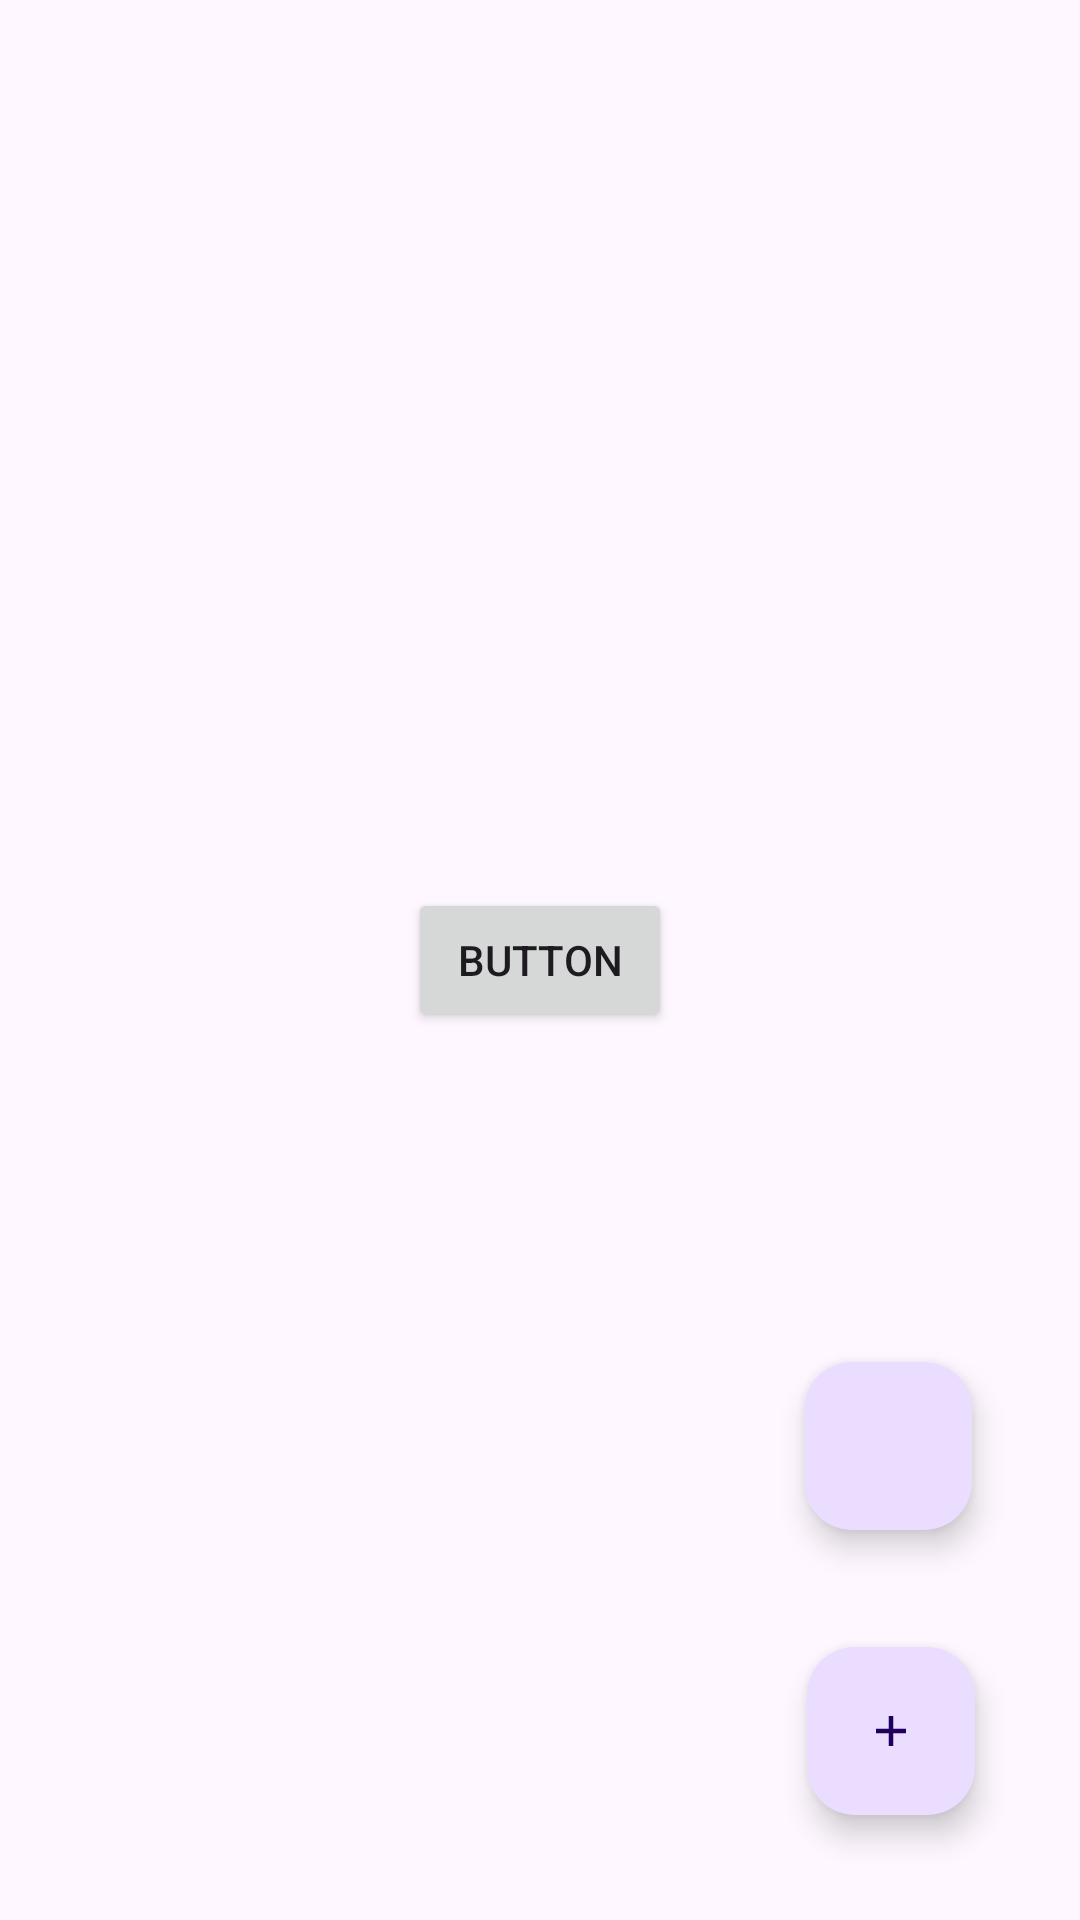

Screen size 1080px×1920px. Icon name, then its center in pixels as (x=x, y=y):
add: (x=891, y=1731)
